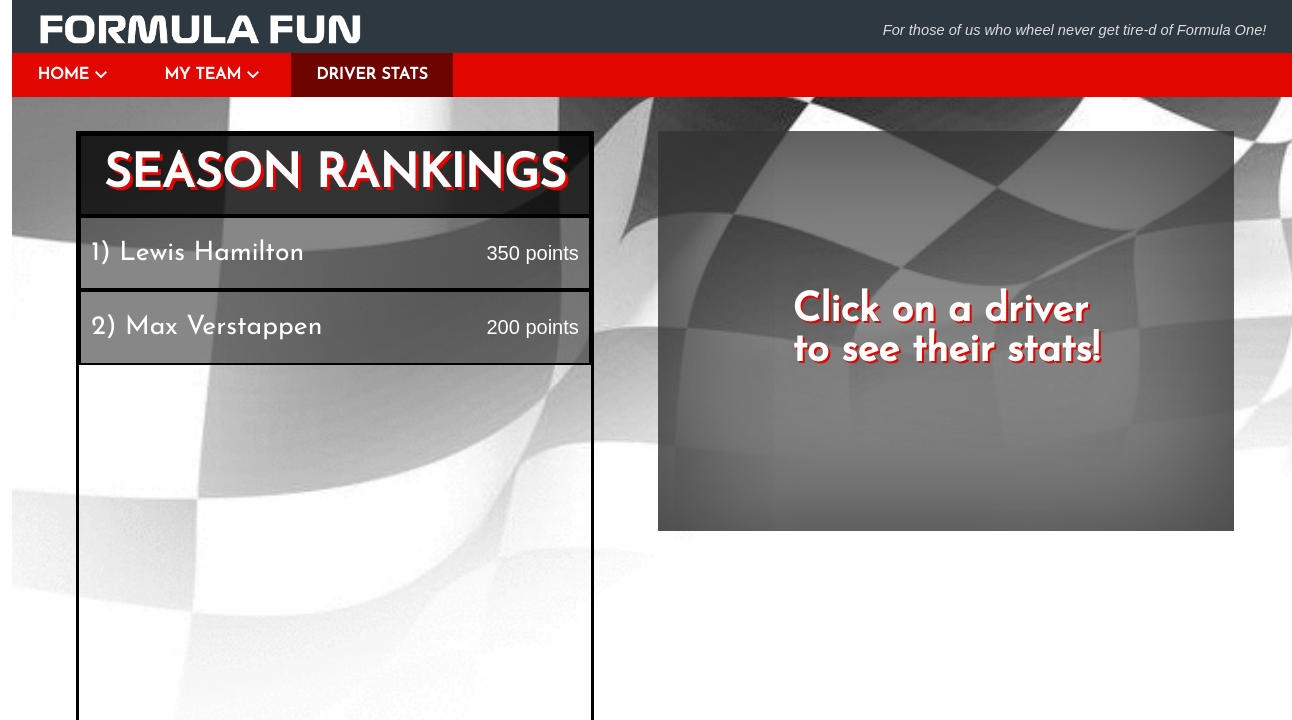
Test case: Driver Stats Page › should allow the user to click on a different driver and display that driver's information
This screenshot has width=1292, height=720.
What coordinates should you click on to do the following:
click the element showing "2) Max Verstappen 200 points"
I would click on:
 (335, 328)
Its box is [79,290,591,365].
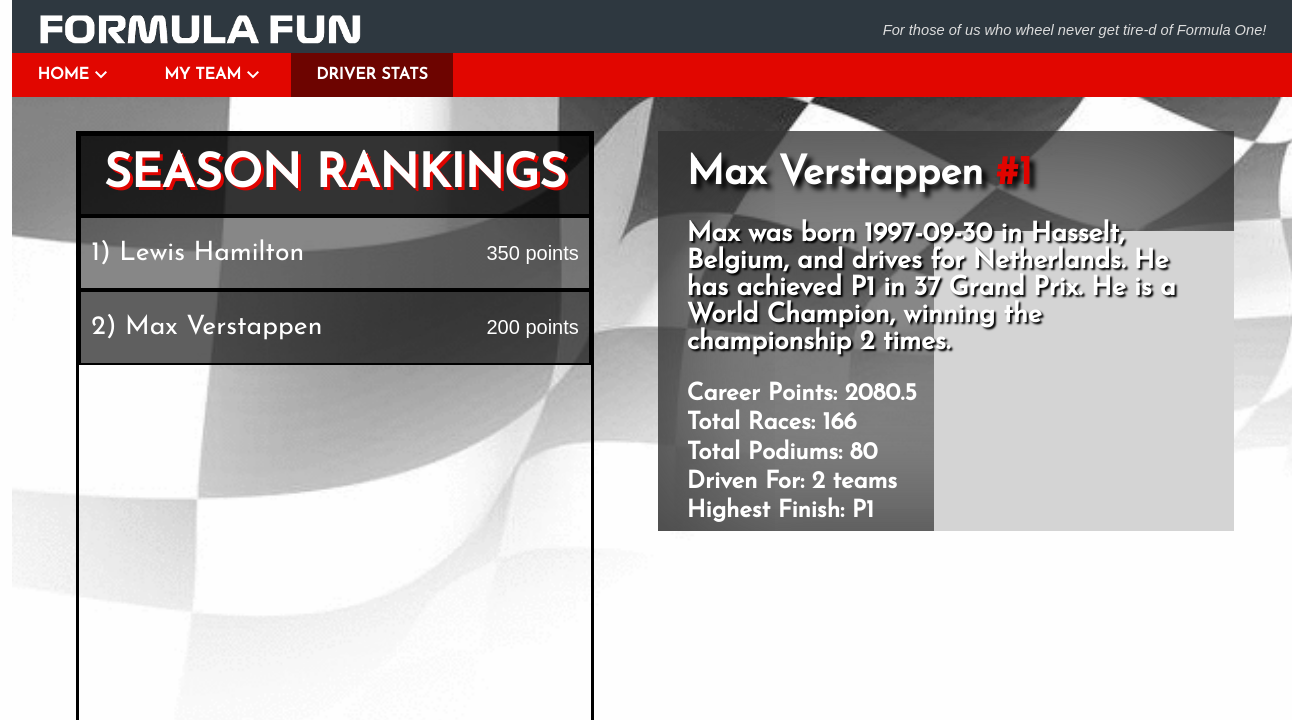
Result: the text "Max was born 1997-09-30 in Hasselt, Belgium" is shown at [687,221,1205,356]
